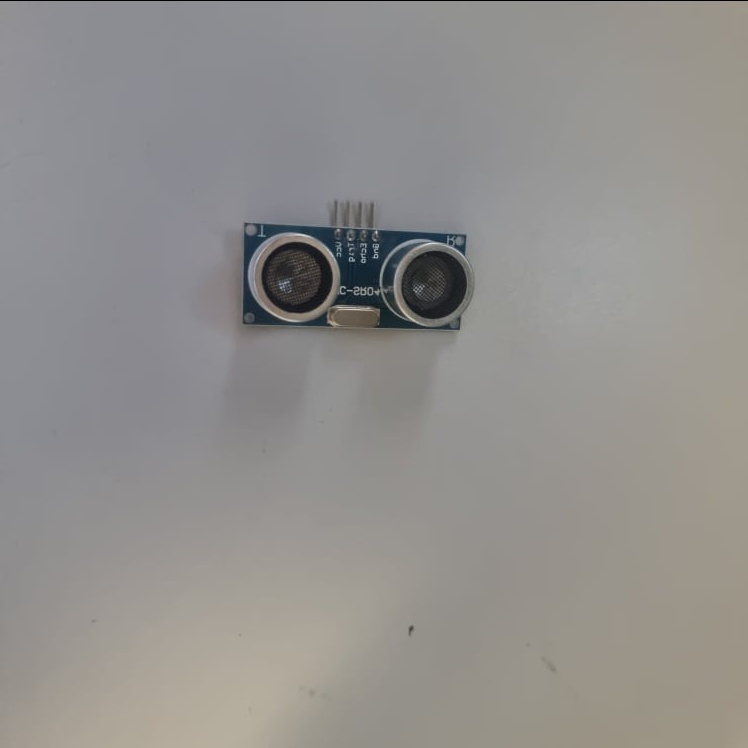SENSOR: (243, 217, 472, 330)
